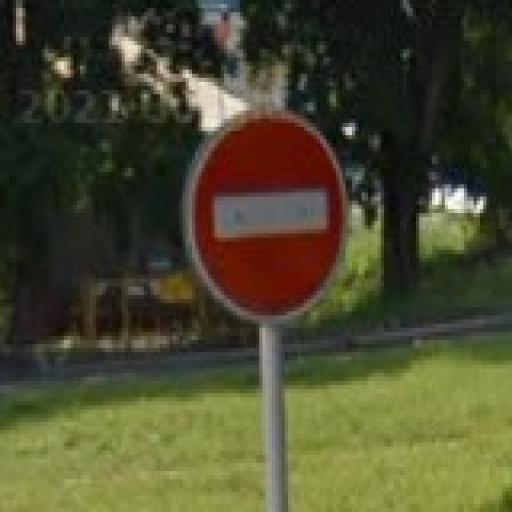traffic_sign: (183, 108, 350, 325)
